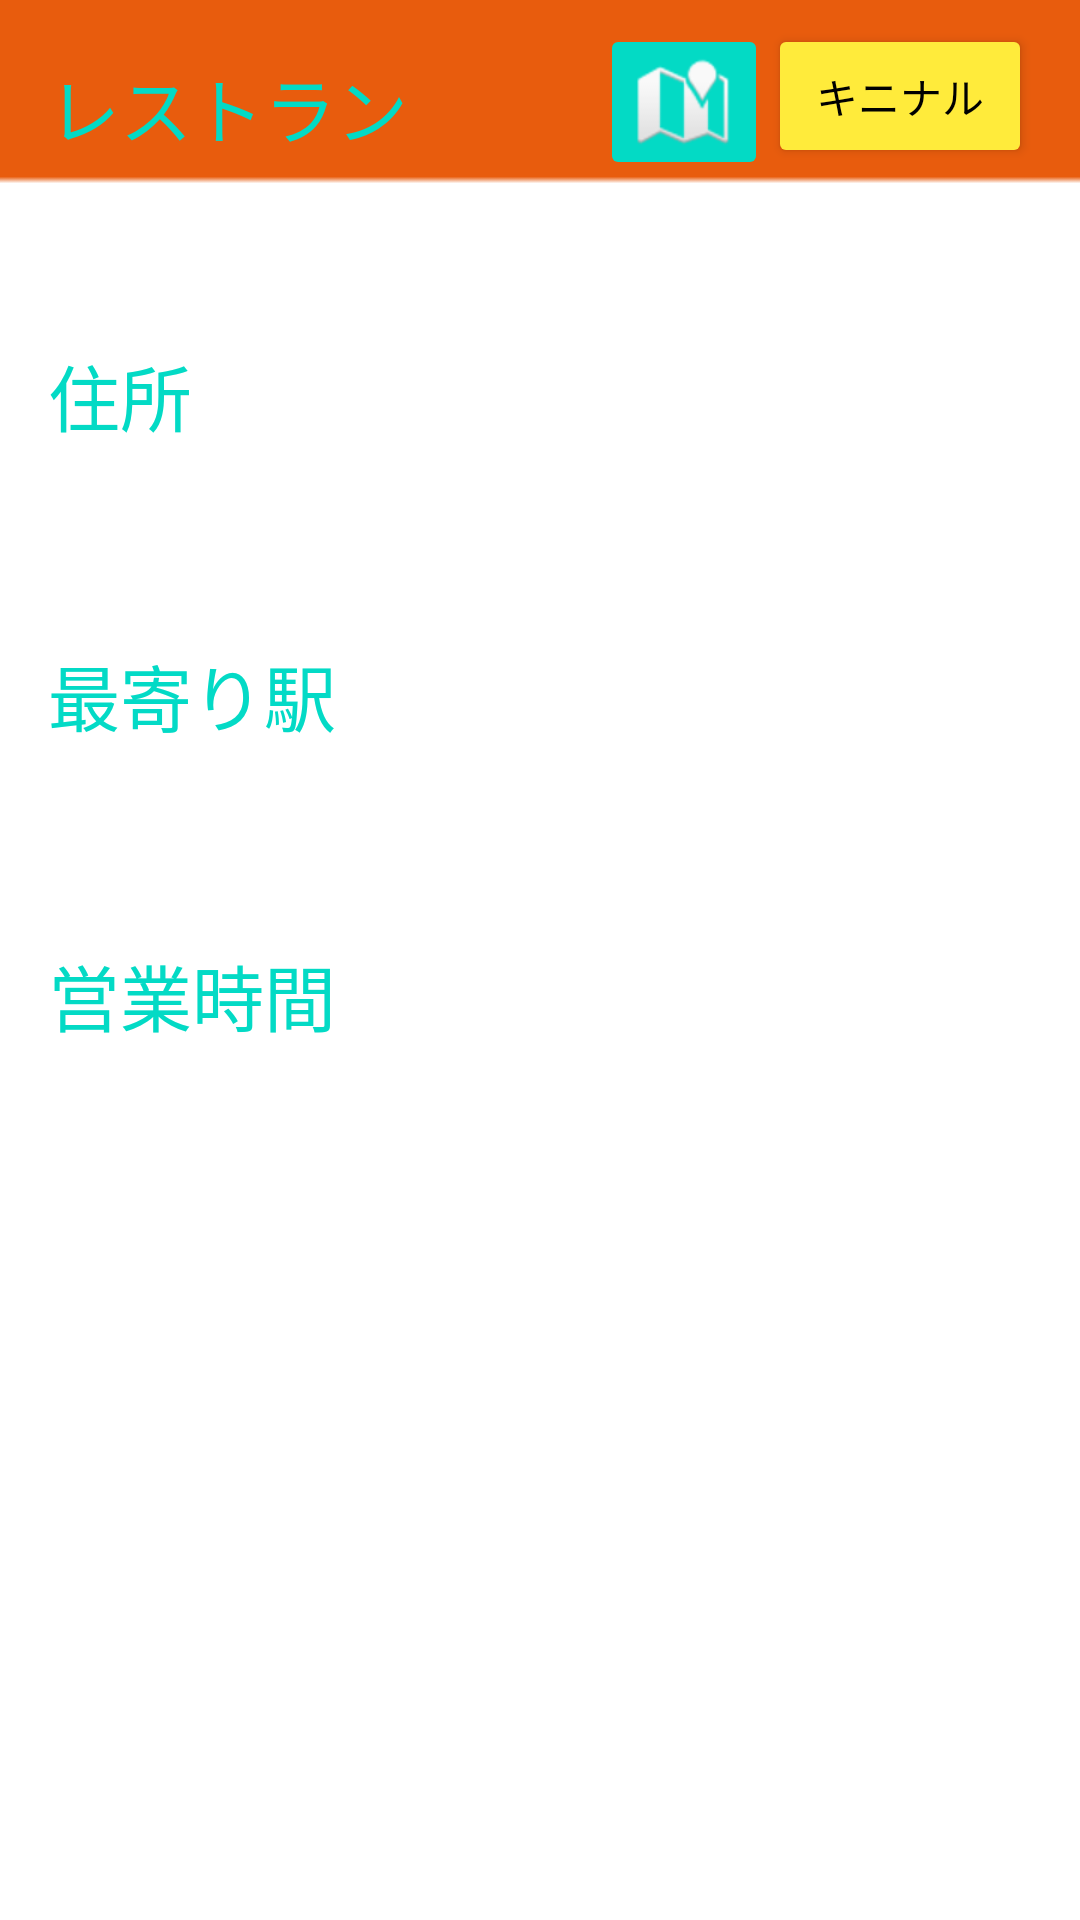

Where to tap for icons on this 1080×1920 app screen, as point (x, y):
map: point (684, 102)
